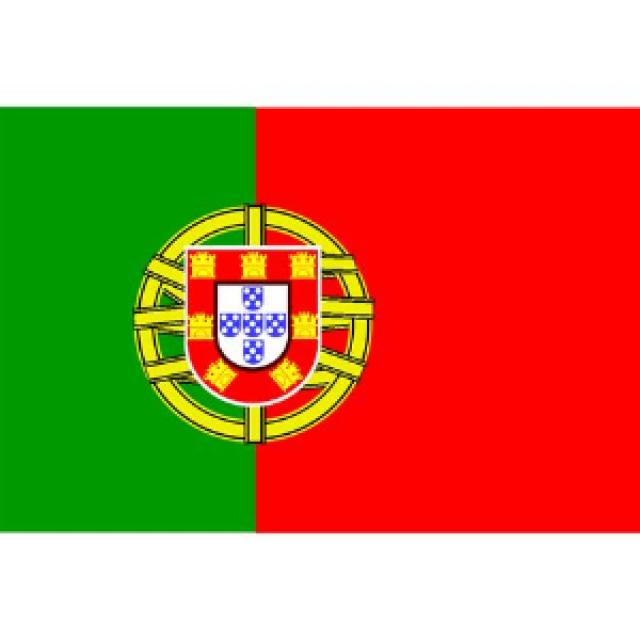portugal: (7, 100, 640, 548)
